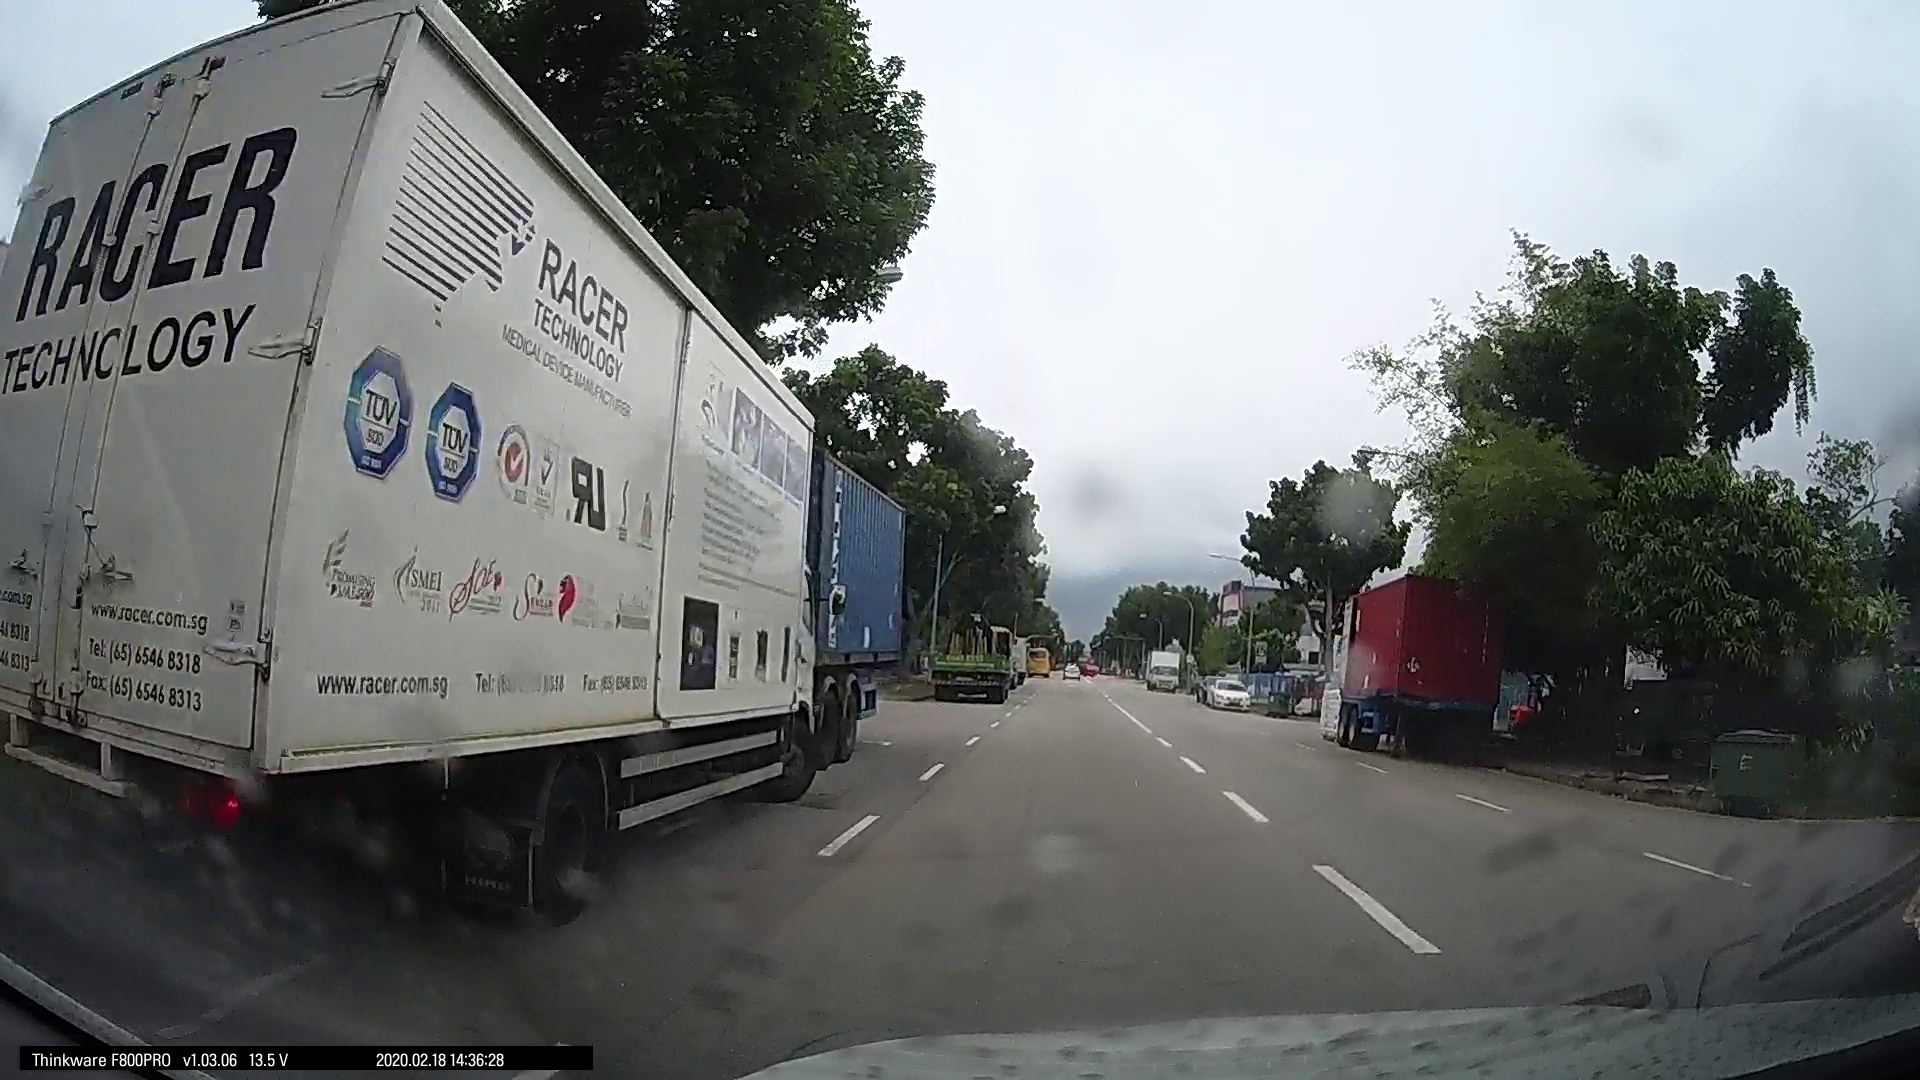Heavy Vehicle: (3, 1, 840, 949), (1323, 568, 1530, 761)
Light Vehicle: (1199, 669, 1251, 711)
